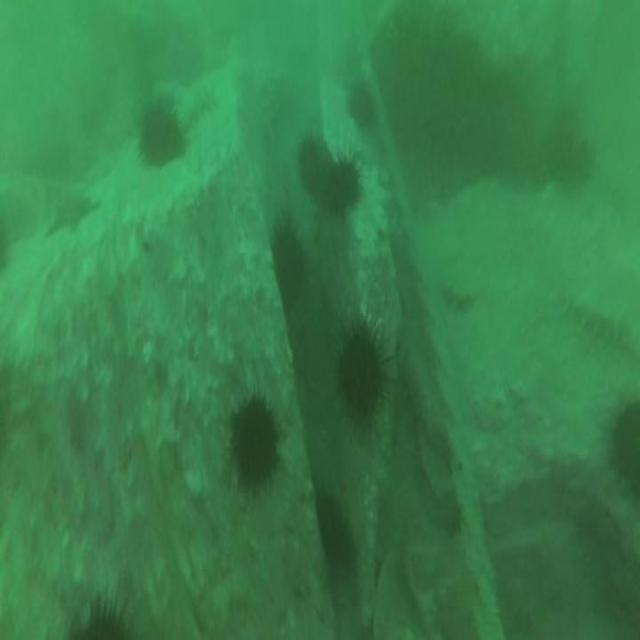echinus: (338, 328, 386, 418), (228, 405, 278, 485), (138, 110, 185, 168), (272, 226, 306, 303), (318, 496, 351, 566), (298, 134, 328, 198), (327, 162, 361, 208), (347, 86, 375, 126)
holothurian: (567, 288, 638, 365), (442, 276, 477, 313), (182, 88, 217, 122)
starfish: (48, 193, 95, 234)
